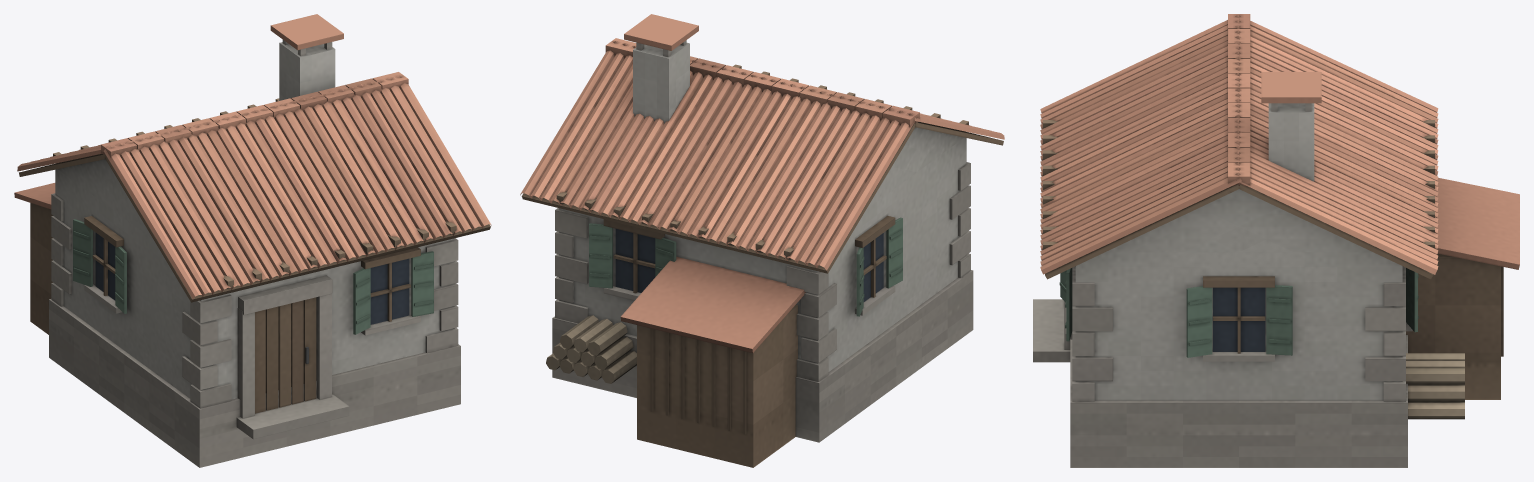
File: plaster-50x30x50-r13-s1.glb
The picture shows the model from 3 angles, left to right: view 1: azimuth 30°, elevation 25°; view 2: azimuth 150°, elevation 25°; view 3: azimuth 270°, elevation 25°; orthographic projection. The views are drawn at different scales.
Parts seen in each view (by area): view 1: Farmhouse; view 2: Farmhouse; view 3: Farmhouse.
Boxes of the visible parts, x1=… form: Farmhouse: x1=14, y1=14, x2=491, y2=467; Farmhouse: x1=520, y1=14, x2=1004, y2=467; Farmhouse: x1=1033, y1=14, x2=1519, y2=467.
Size of the model in its own units: 5.93 by 5.96 by 7.44.
1 material, 1 textured.
